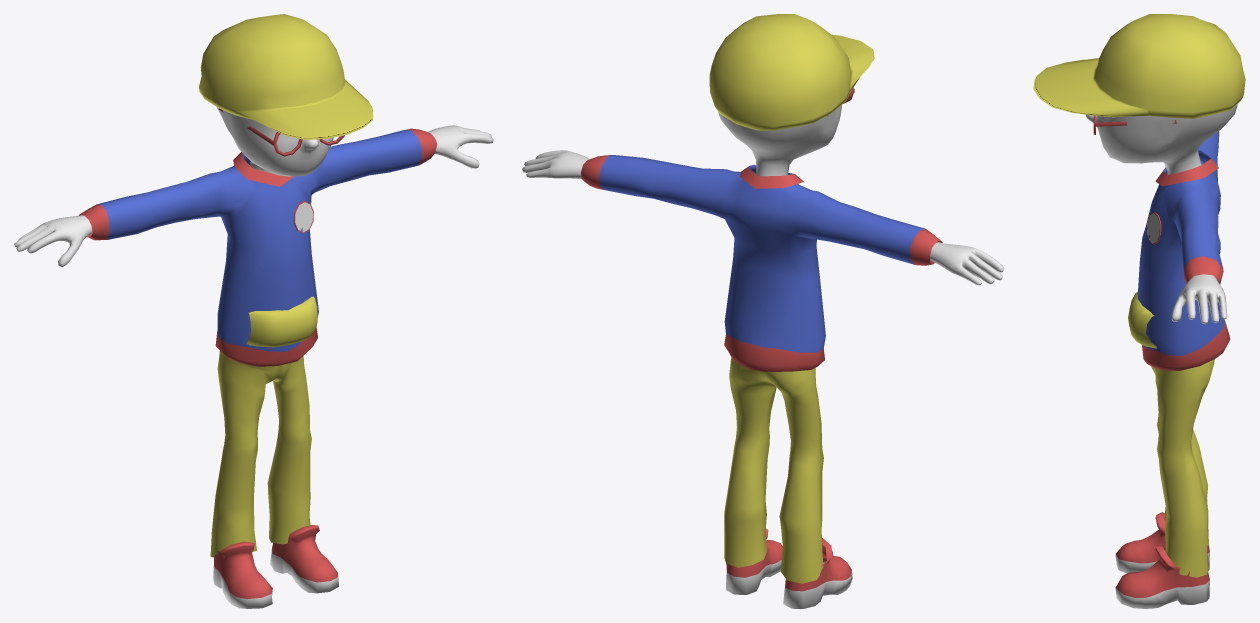
File: ana_karakter.fbx
3 renders of one model, left to right at view 1: azimuth 30°, elevation 25°; view 2: azimuth 150°, elevation 25°; view 3: azimuth 270°, elevation 25°, orthographic.
Visible parts, largest first — view 1: polySurface26; view 2: polySurface26; view 3: polySurface26.
Boxes of the visible parts, box(x1,y1,x2,y2) form: polySurface26: box(14, 14, 493, 608); polySurface26: box(522, 14, 1004, 608); polySurface26: box(1033, 14, 1245, 608).
Size of the model in its own units: 8.1 by 9.13 by 3.11.
